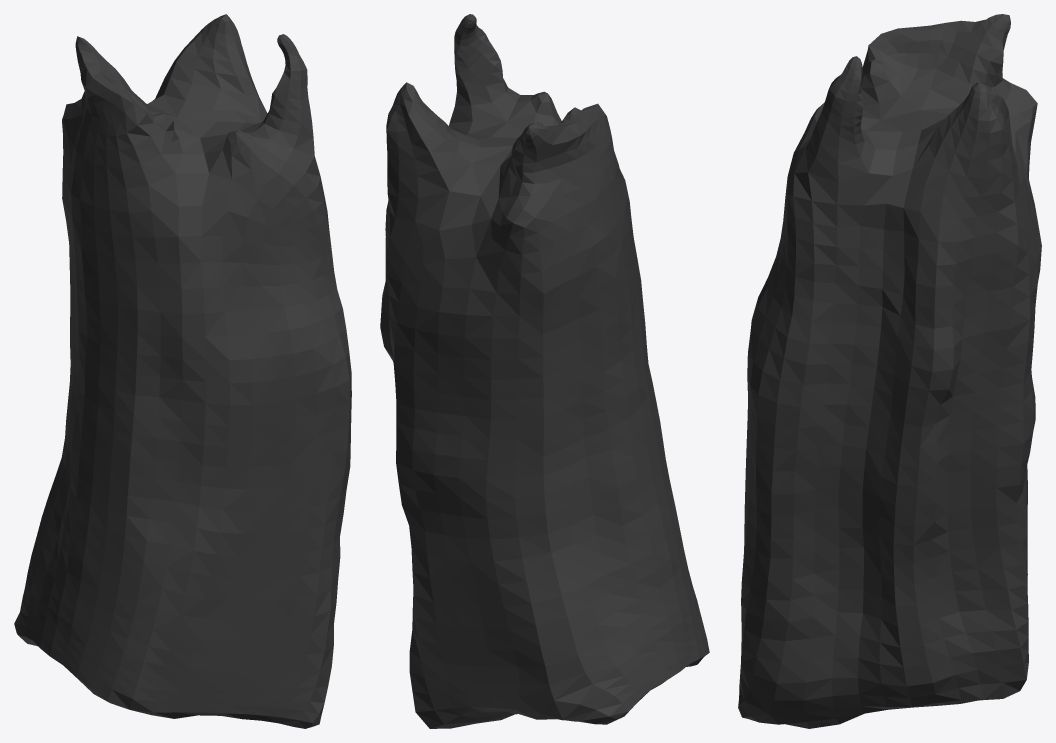
Rendered from R_max_M2_copy000.glb.
3 renders of one model, left to right at view 1: azimuth 30°, elevation 25°; view 2: azimuth 150°, elevation 25°; view 3: azimuth 270°, elevation 25°, orthographic. The views are drawn at different scales.
Parts seen in each view (by area): view 1: R_max_M2_copy000; view 2: R_max_M2_copy000; view 3: R_max_M2_copy000.
Part boxes in pixels (left/top/right/bottom): R_max_M2_copy000: left=14, top=14, right=351, bottom=728; R_max_M2_copy000: left=380, top=14, right=709, bottom=728; R_max_M2_copy000: left=738, top=14, right=1041, bottom=728.
Size of the model in its own units: 0.5165 by 1.21 by 0.4882.
1 material, 1 textured.
